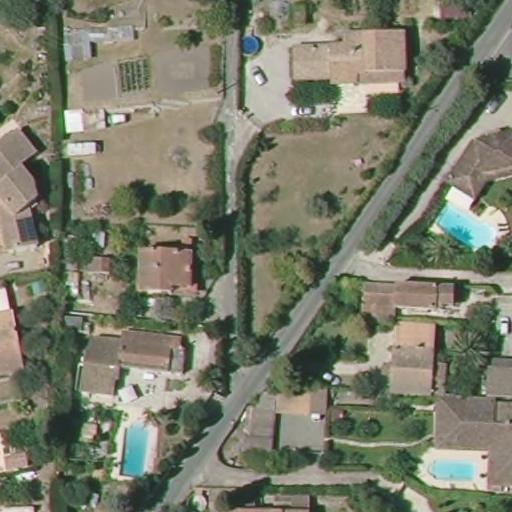pool: (427, 199, 503, 258), (421, 451, 486, 488), (116, 417, 151, 479), (236, 32, 261, 64)
